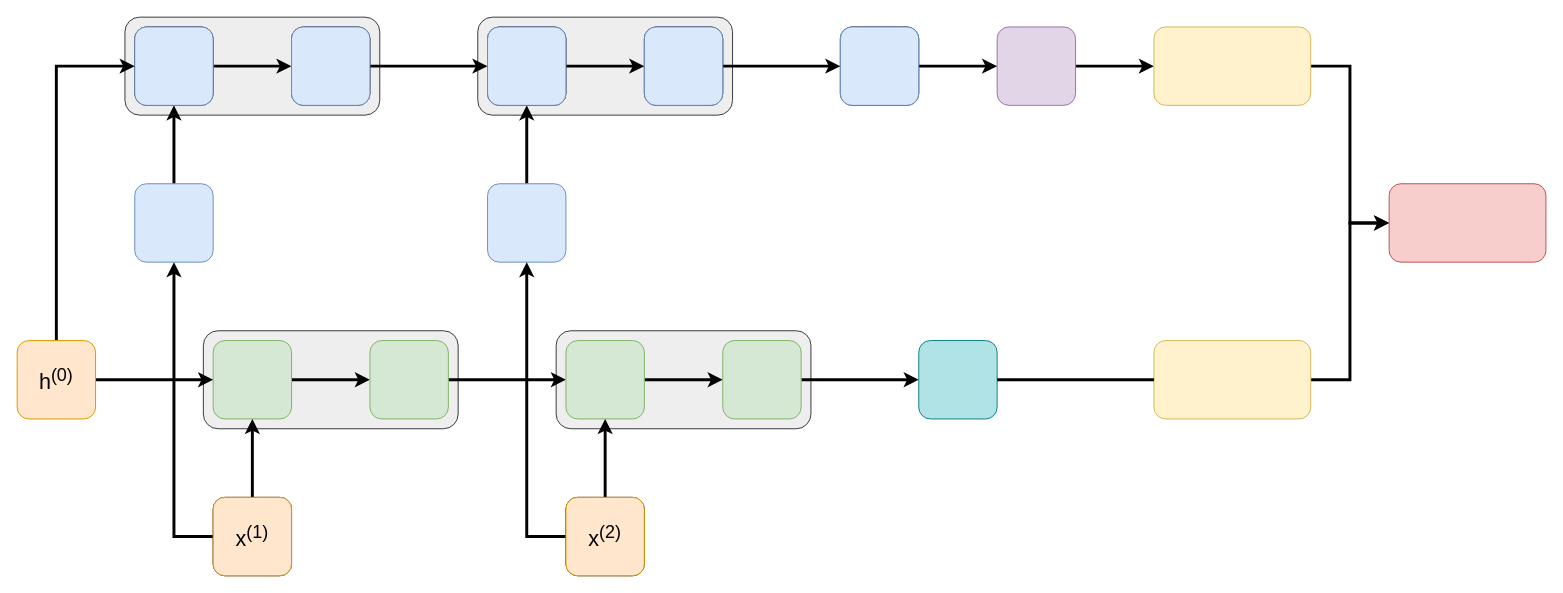
This 1563x593 diagram has some shape labels left out. The centre of each missing label's shape, as x and y in pixels:
"Z x (1)" goes at pixel 173 222.
"Z x (2)" goes at pixel 526 222.
